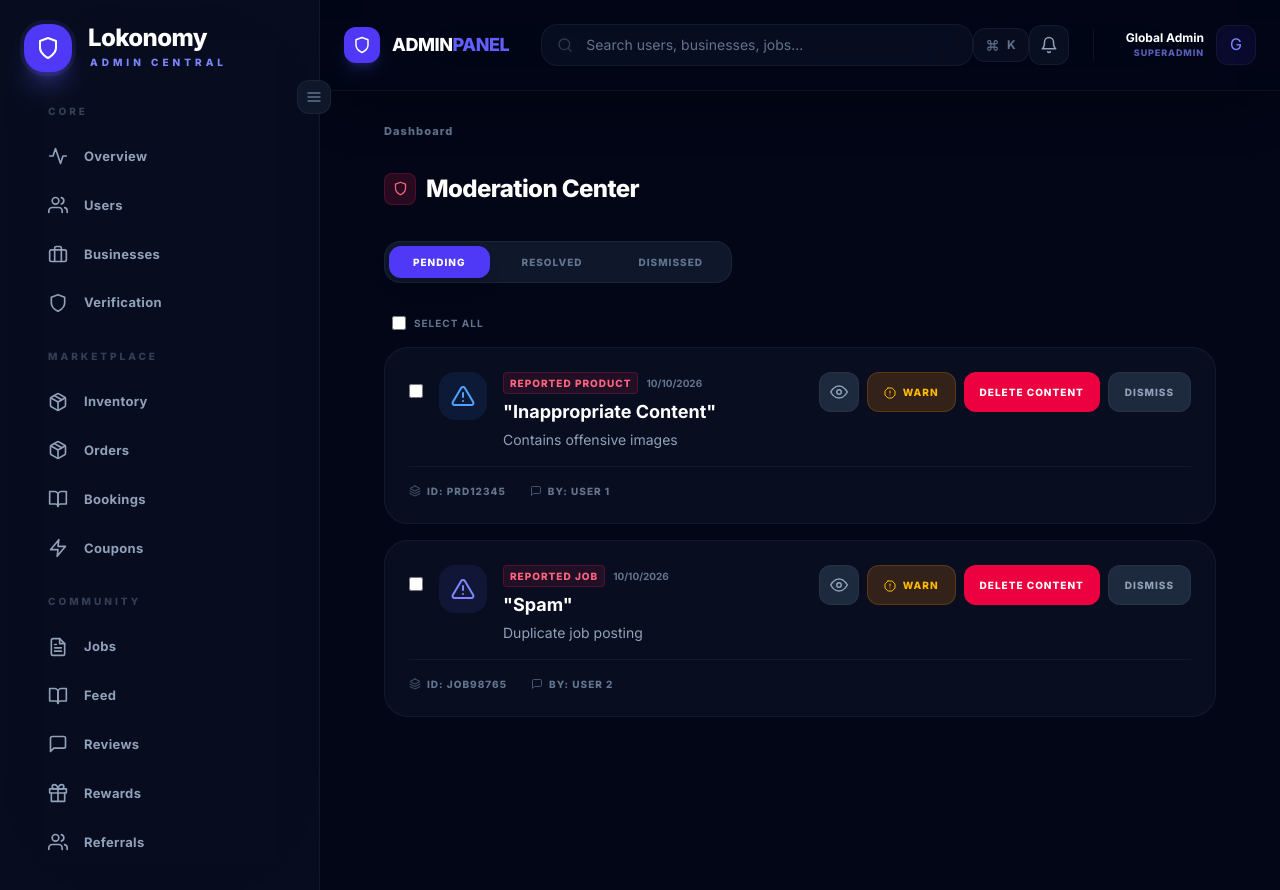
Scenario: AdminModeration Page › handles content preview failure or deleted content
Expected: the heading "\"Inappropriate Content\"" is shown, [503,398,716,426]
Click the button named "Preview content" next to "Inappropriate Content" at (839, 392), box [819,372,859,412]
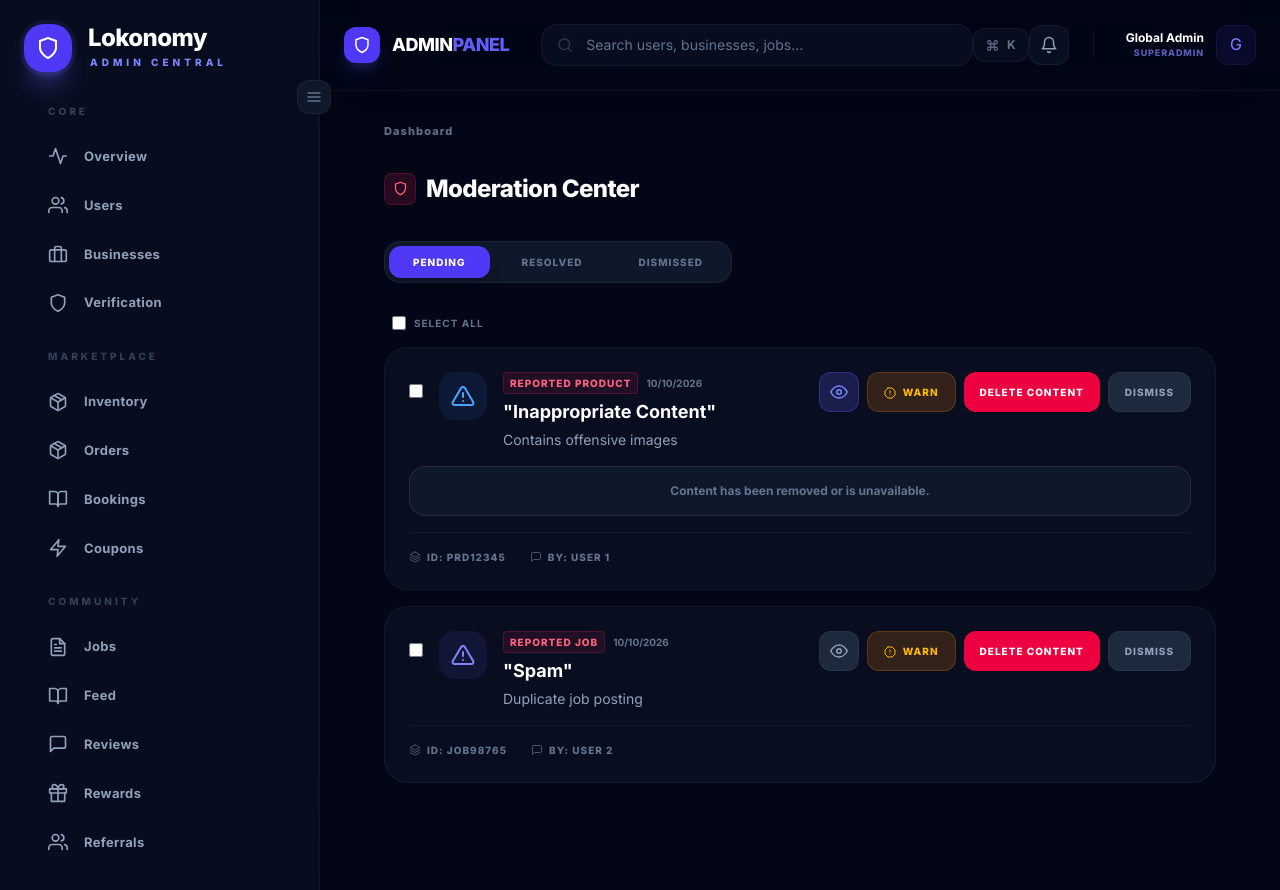
Expected: the text "Content has been removed or is unavailable." is shown, [670,483,930,498]
